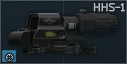EOTech HHS-1 hybrid sight: (0, 0, 127, 64)
